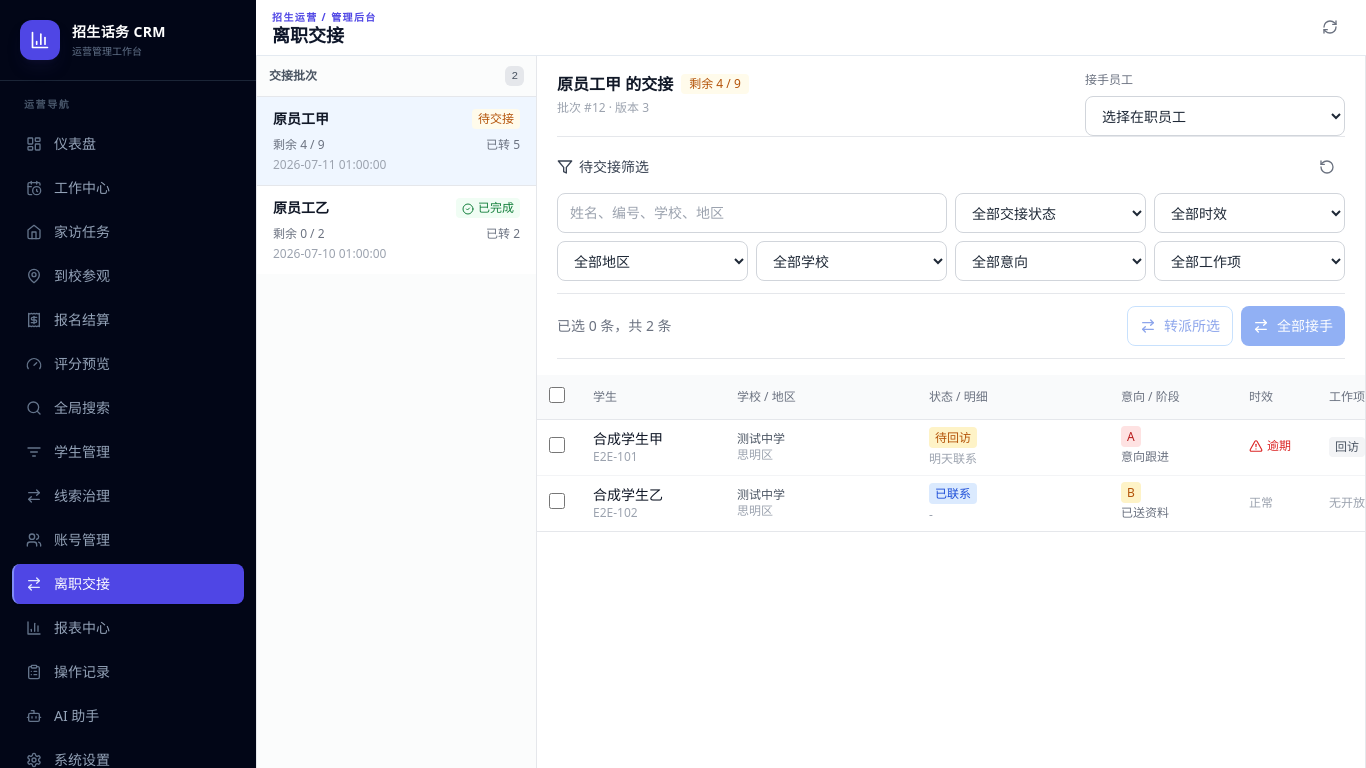
Test: HandoverCenter › previews selected students and executes with the preview version
The image size is (1366, 768).
Select "接手员工" in the dropdown labelled "接手员工" at [1215, 116], box top-left (1085, 96), bottom-right (1345, 136)
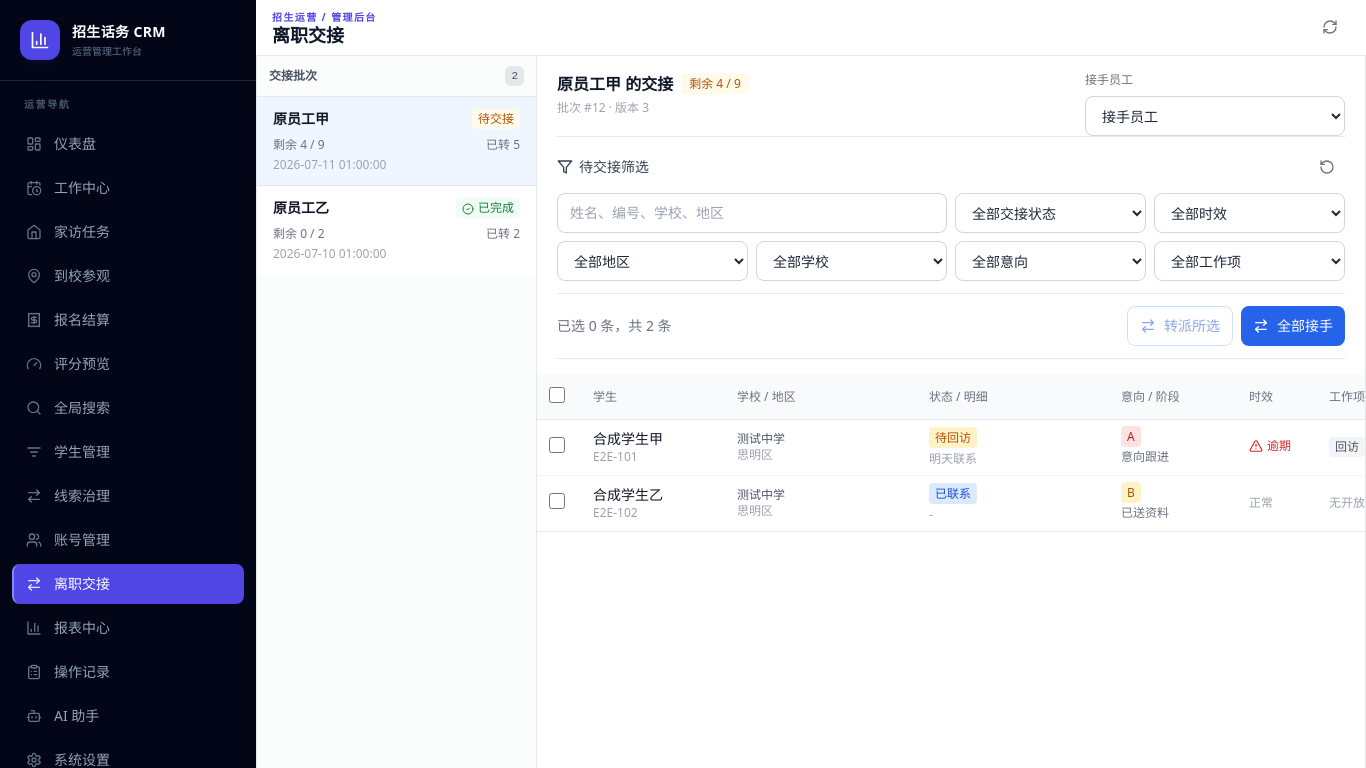
Click the checkbox named "选择 合成学生甲" at [557, 444], box top-left (549, 436), bottom-right (565, 452)
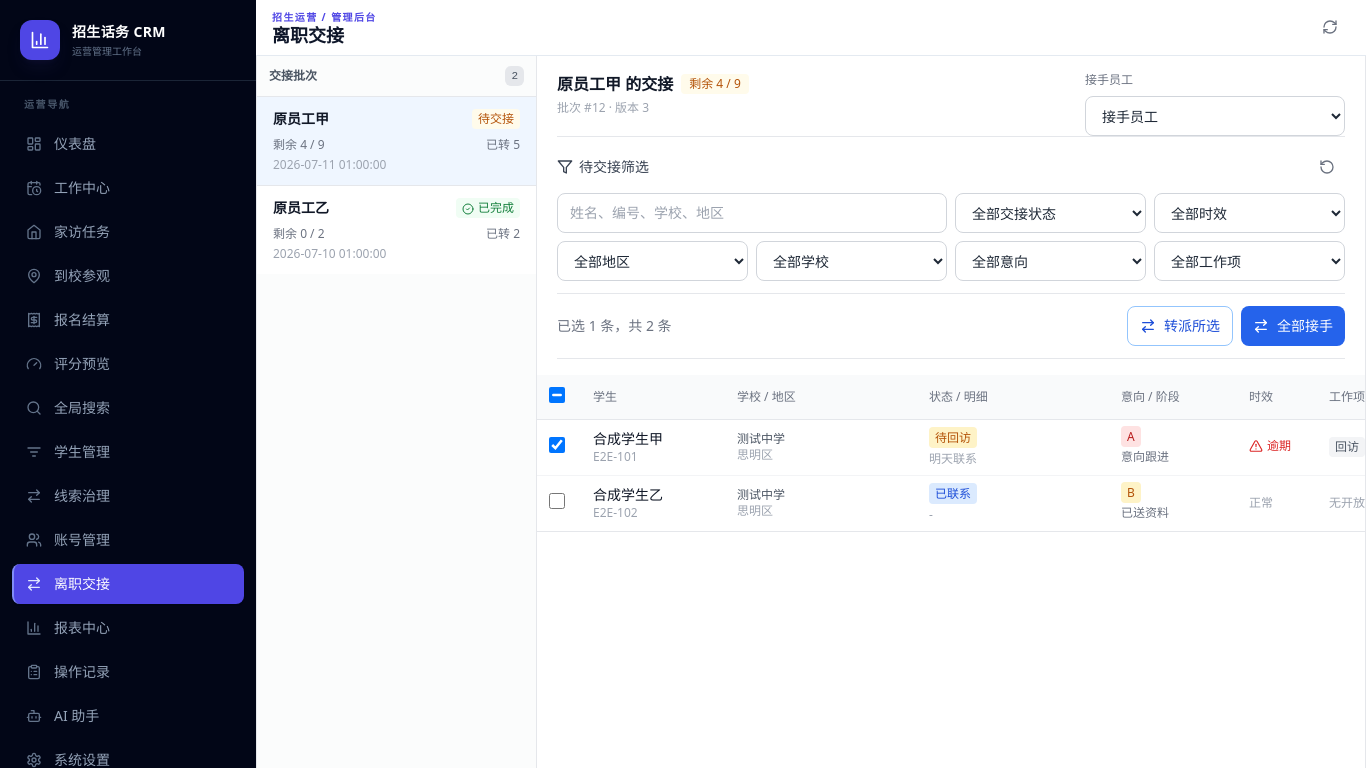
Click the button "转派所选" at [1180, 326], box top-left (1127, 306), bottom-right (1233, 346)
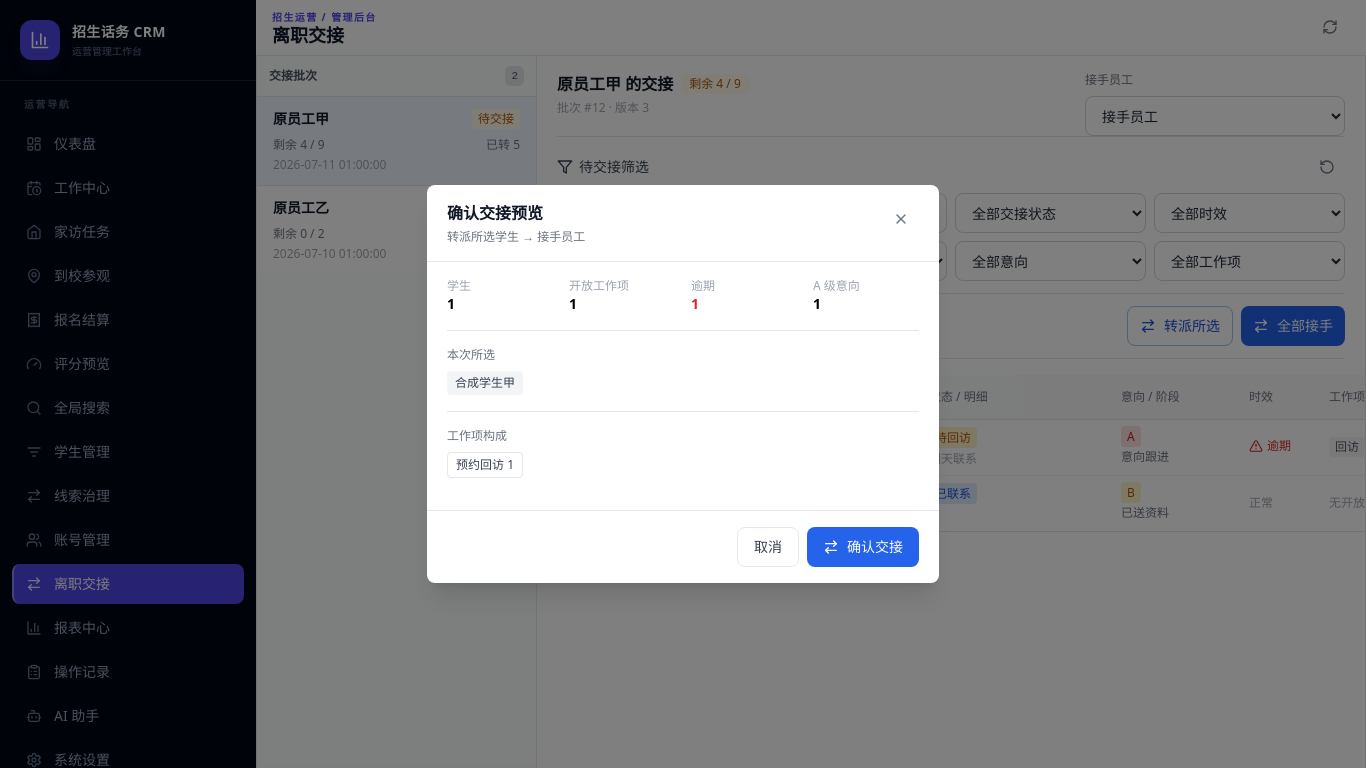
Expected: the dialog is shown, top-left (427, 185), bottom-right (939, 583)
Expected: the text "合成学生甲" is shown, top-left (447, 371), bottom-right (523, 395)
Click the button "确认交接" at [863, 547], box top-left (807, 527), bottom-right (919, 567)
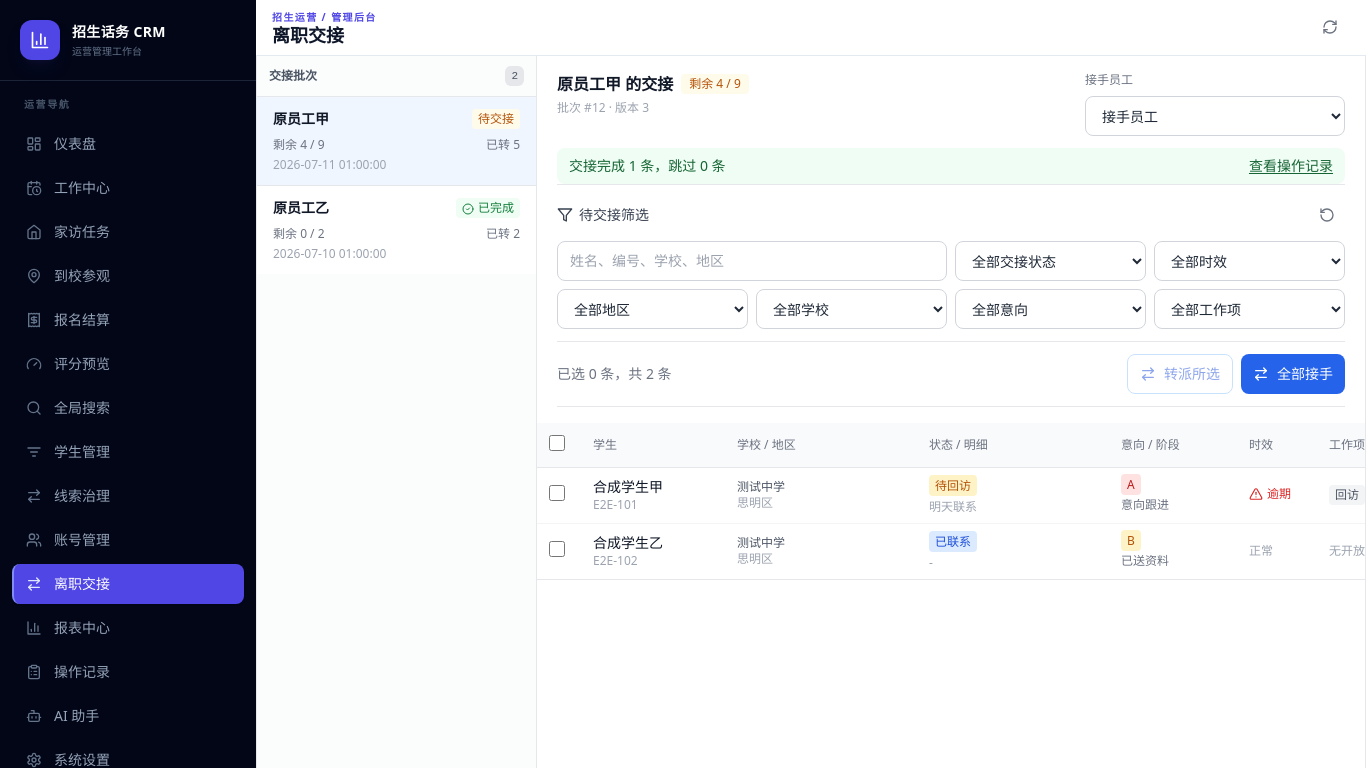
Expected: the text "交接完成 1 条，跳过 0 条" is shown, top-left (569, 156), bottom-right (726, 176)
